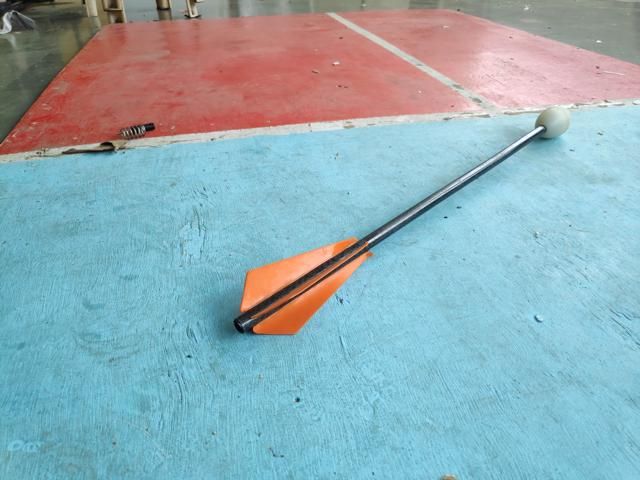Head: (533, 104, 574, 139)
Tail: (229, 234, 377, 339)
